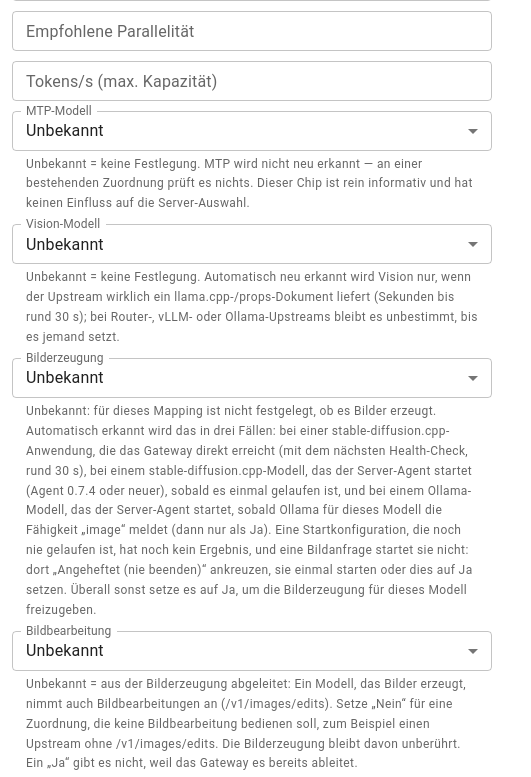
does not offer a "no" option for image, because the backend refuses it
(page scrolled)
Press the mouse on the dropdown named "Bilderzeugung" at x=65, y=378, box [26, 368, 104, 387]
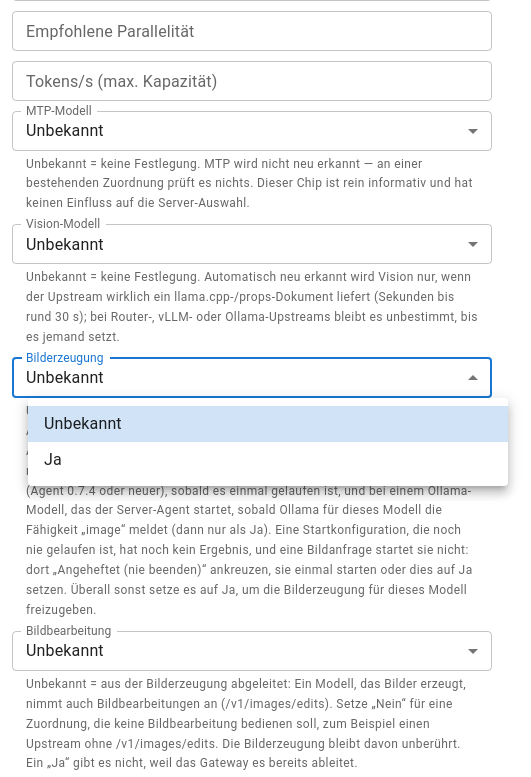
Check: the option "Unbekannt" is shown, box [28, 406, 508, 442]
Check: the option "Ja" is shown, box [44, 450, 62, 469]
